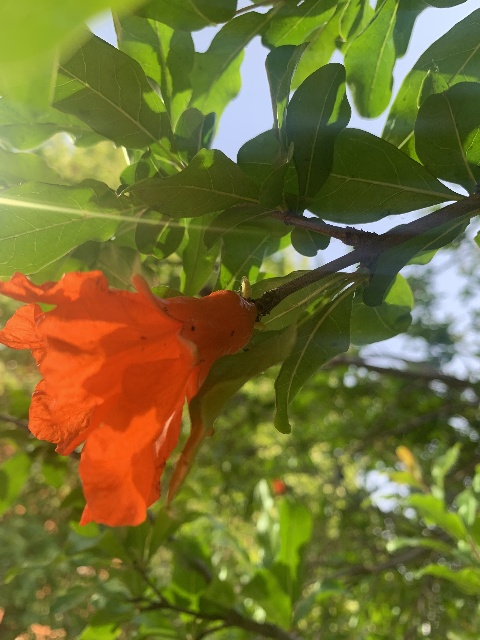flower: (0, 266, 257, 527)
